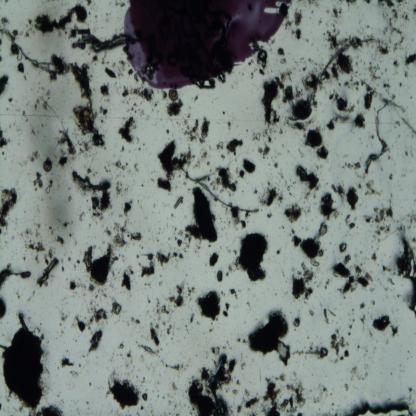Air bubble: (346, 400, 411, 416)
Background material: (1, 31, 102, 150), (282, 31, 376, 130), (0, 307, 49, 410), (83, 221, 142, 292), (187, 344, 236, 414), (244, 369, 308, 415), (248, 308, 292, 366), (154, 137, 198, 191), (70, 168, 115, 220), (228, 232, 269, 287), (364, 101, 393, 175), (28, 4, 90, 38), (325, 88, 366, 132), (290, 223, 330, 267), (395, 235, 416, 318), (334, 253, 375, 294), (107, 372, 150, 411), (259, 75, 283, 129), (195, 290, 230, 323), (52, 128, 78, 167), (366, 53, 393, 90), (365, 203, 394, 237), (288, 266, 314, 303), (139, 321, 165, 357), (0, 187, 19, 234), (377, 19, 403, 53), (142, 247, 170, 278), (77, 308, 109, 335), (330, 327, 352, 365), (304, 128, 330, 160), (213, 162, 239, 194), (171, 224, 194, 260), (226, 203, 258, 228), (370, 312, 402, 337), (35, 255, 59, 288), (294, 162, 320, 192), (183, 115, 210, 143), (257, 184, 283, 212), (21, 226, 47, 254), (0, 264, 32, 286), (332, 183, 358, 210), (120, 116, 142, 147), (254, 127, 273, 160), (166, 284, 189, 311), (380, 263, 398, 293), (289, 347, 328, 360), (320, 192, 338, 220), (359, 80, 377, 108), (395, 212, 416, 236), (280, 201, 302, 223), (238, 156, 258, 180), (119, 267, 139, 291), (120, 88, 153, 101), (26, 404, 65, 415), (88, 329, 104, 354), (290, 10, 303, 40), (385, 0, 401, 21), (28, 170, 44, 191), (351, 364, 366, 385), (226, 137, 243, 155), (166, 102, 185, 118), (320, 304, 336, 322), (345, 211, 357, 234), (319, 378, 330, 402), (97, 80, 110, 100), (155, 299, 168, 318), (103, 64, 118, 80), (0, 73, 10, 97), (121, 198, 134, 216), (366, 181, 380, 197), (67, 278, 84, 291), (0, 294, 8, 321), (0, 128, 10, 149), (404, 49, 416, 66), (168, 361, 185, 373), (208, 251, 219, 269), (110, 300, 122, 316), (62, 311, 72, 330), (111, 160, 127, 171), (341, 162, 360, 171), (215, 269, 225, 286), (54, 231, 66, 245), (228, 288, 240, 300), (291, 316, 302, 328), (60, 358, 75, 366), (174, 196, 184, 208), (333, 10, 345, 20), (134, 312, 142, 326), (346, 0, 357, 10), (338, 242, 347, 253), (359, 313, 367, 325), (345, 380, 351, 393), (371, 250, 377, 262), (392, 60, 398, 68), (362, 302, 366, 312), (118, 345, 124, 351), (61, 264, 66, 271), (77, 260, 81, 264)
Cellulose filter fibre: (75, 32, 128, 52)
Diatom: (167, 86, 179, 101), (40, 161, 52, 173)
Fragment: (192, 186, 216, 243)
Pen: (123, 1, 288, 90)
